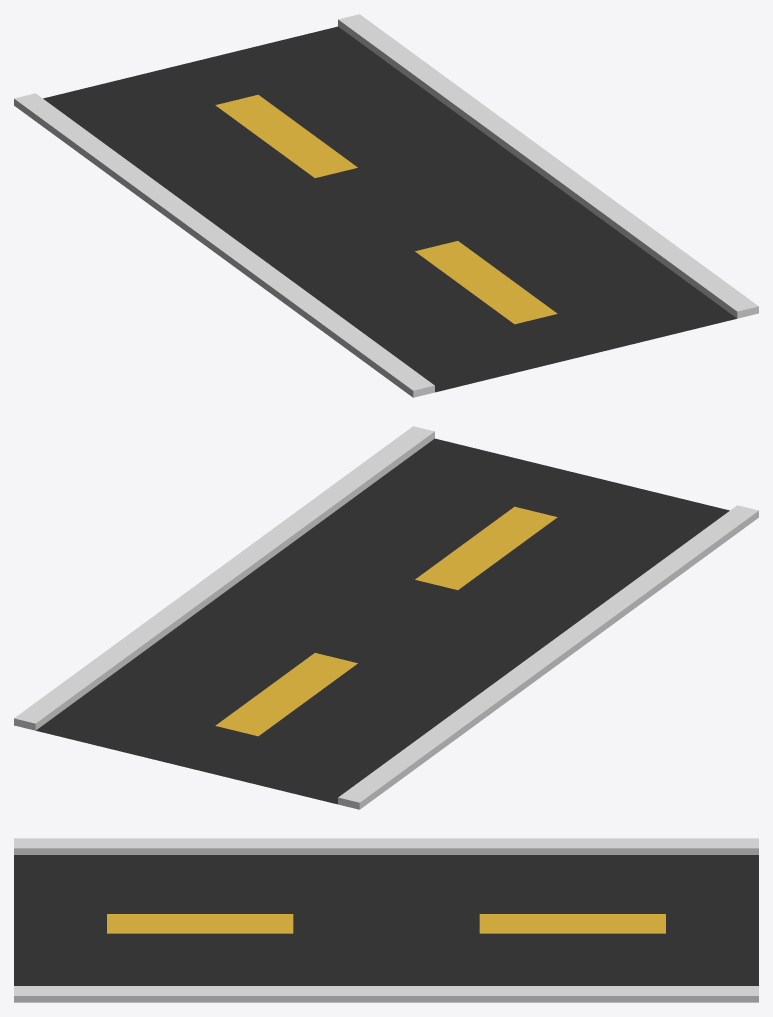
Rendered from Road.fbx.
The picture shows the model from 3 angles, top to bottom: view 1: azimuth 30°, elevation 25°; view 2: azimuth 150°, elevation 25°; view 3: azimuth 270°, elevation 25°; orthographic projection. The views are drawn at different scales.
Parts seen in each view (by area): view 1: Plane; view 2: Plane; view 3: Plane.
Boxes of the visible parts, x1=… form: Plane: x1=14, y1=14, x2=758, y2=397; Plane: x1=14, y1=426, x2=758, y2=809; Plane: x1=14, y1=838, x2=758, y2=1002.
Bounding box in the file's own units: 400 × 7.8 × 800.
